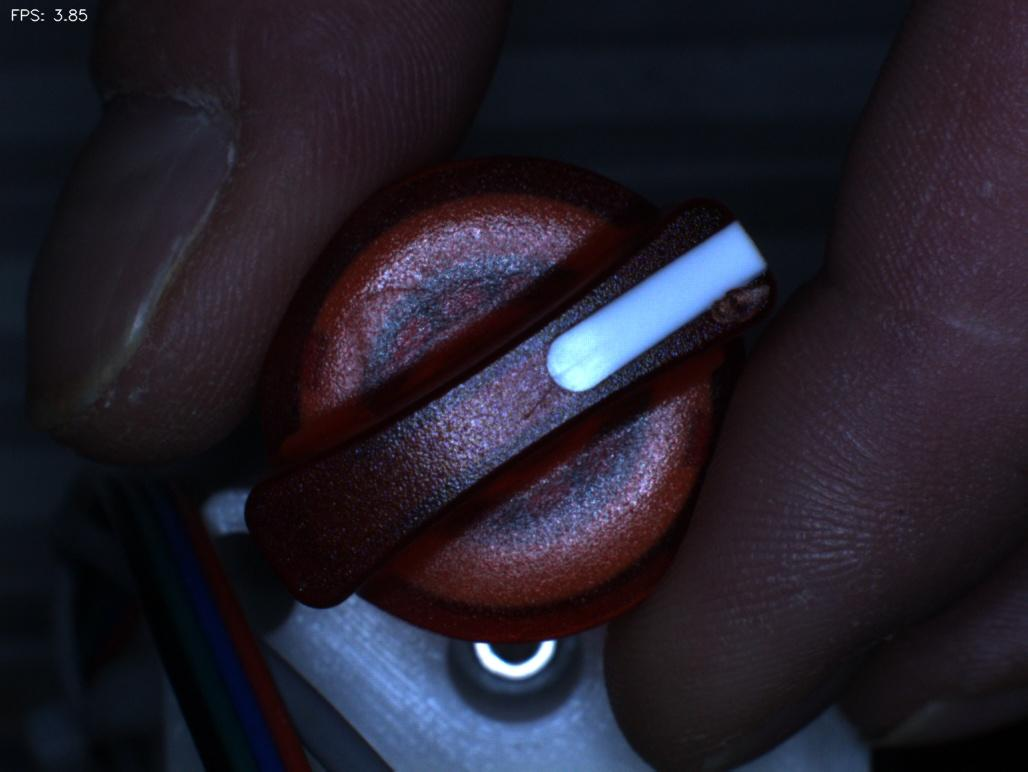Choc: (694, 260, 800, 357)
